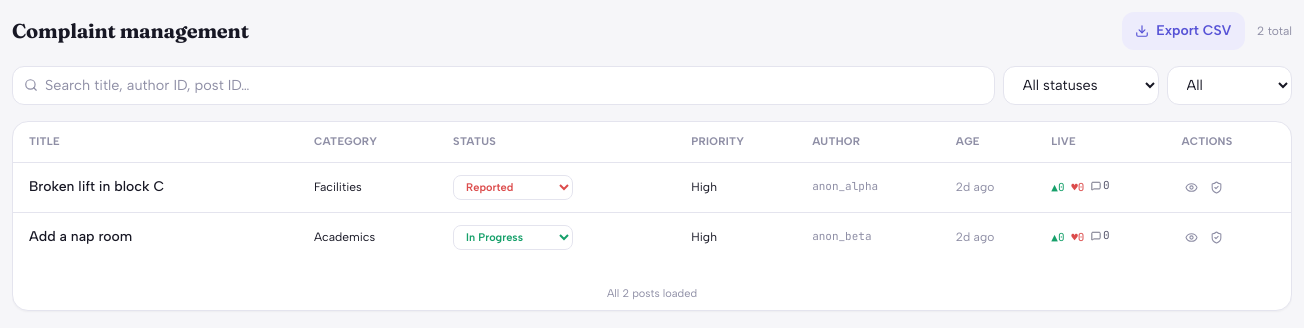
Scenario: PostsTable — filters › filters by category dropdown
Check: the text "Broken lift in block C" is shown, box [29,178,164,195]
Select "Academics" in the 2nd dropdown at (1230, 85), box [1167,66,1292,104]
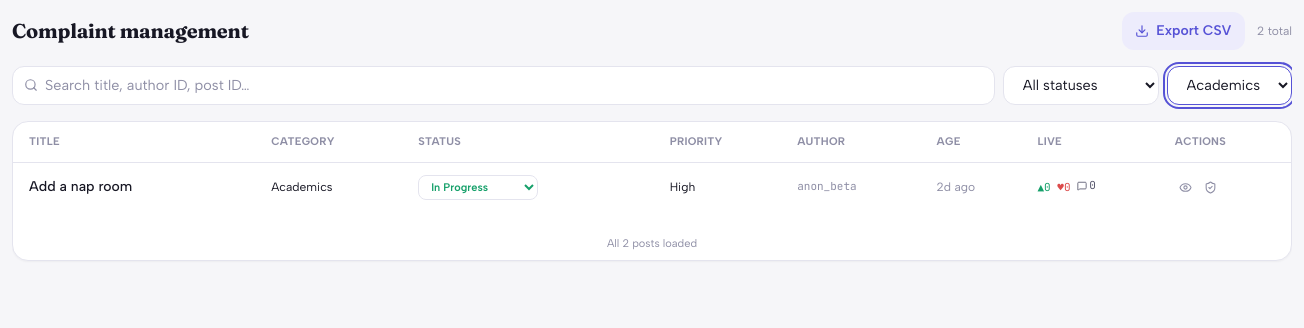
Check: the text "Add a nap room" is shown, box [29,178,132,195]
Check: the text "Broken lift in block C" is gone
